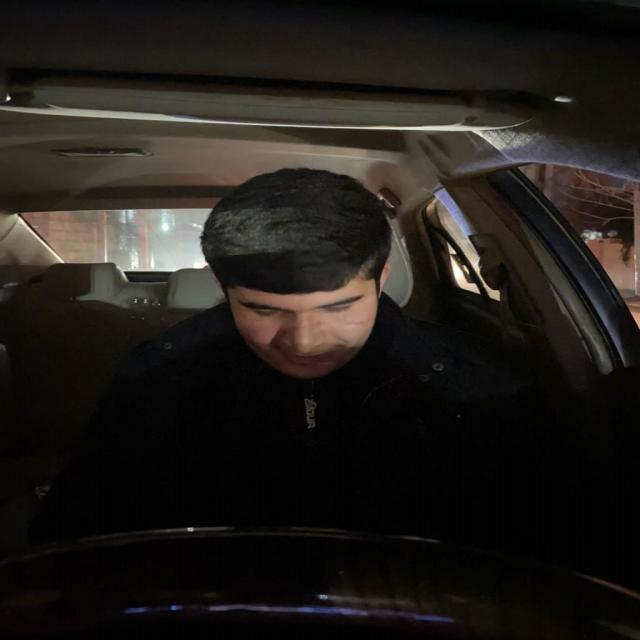drowsy: (207, 176, 392, 390)
